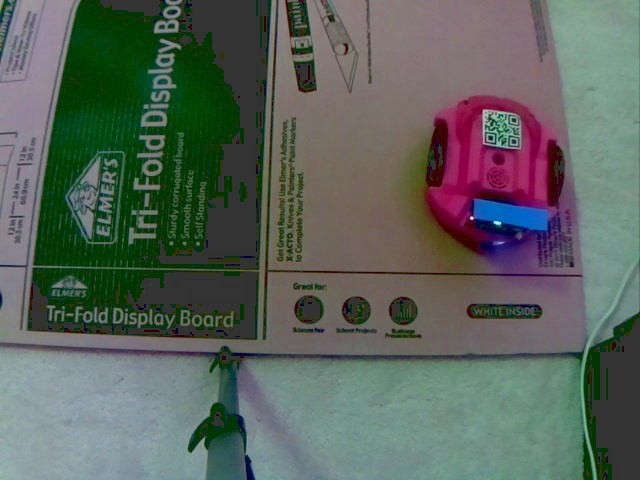board: (467, 193, 551, 245)
chassis: (422, 91, 567, 255)
